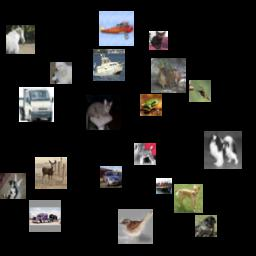airplane: (99, 11, 134, 46)
automobile: (100, 166, 122, 188)
bird: (118, 209, 153, 244), (189, 80, 211, 102)
cat: (86, 95, 121, 130), (149, 31, 168, 50)
deer: (151, 58, 186, 93), (35, 157, 67, 189)
dog: (204, 131, 242, 169), (174, 184, 203, 213), (0, 173, 26, 199), (50, 62, 72, 84), (134, 143, 156, 165), (195, 215, 217, 237)
frog: (140, 94, 162, 116)
ship: (93, 49, 125, 81), (156, 178, 172, 194)
truck: (19, 87, 54, 122), (29, 200, 61, 232)
